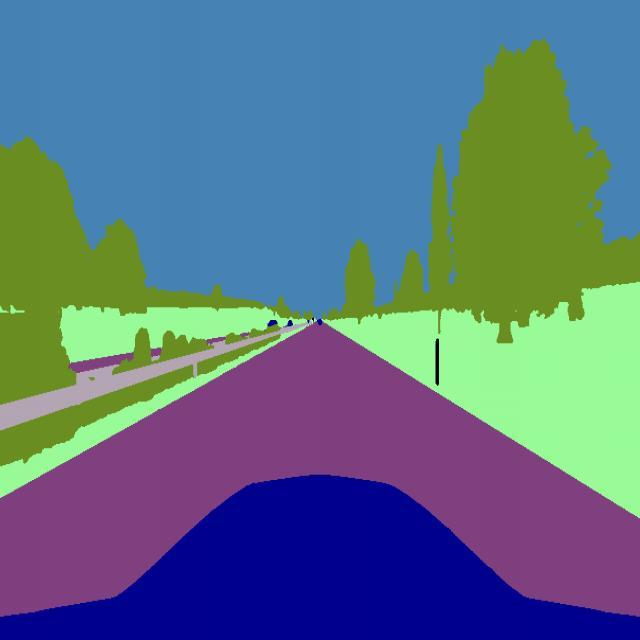safe: (268, 318, 278, 332), (286, 317, 294, 331), (316, 317, 324, 328)
